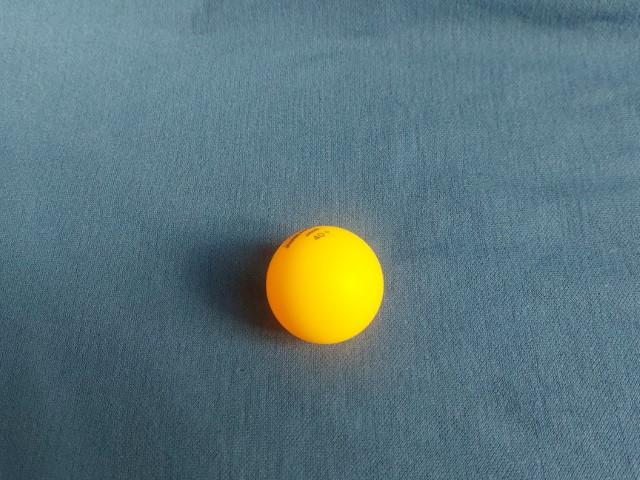oball: (257, 222, 392, 353)
